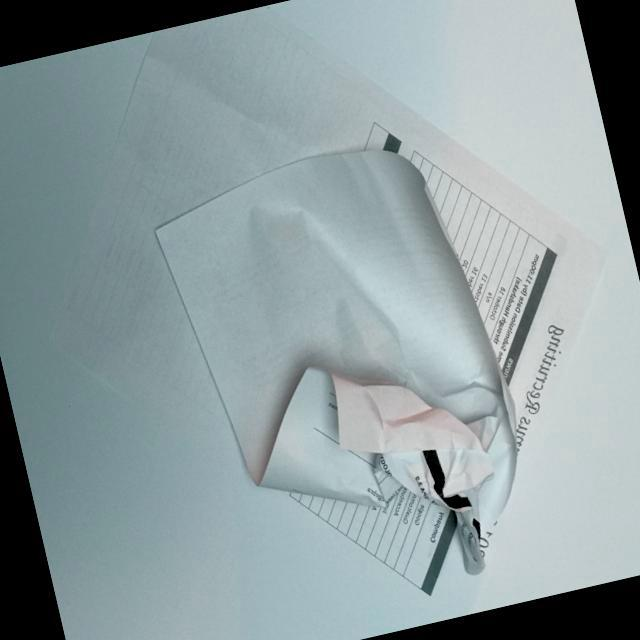paper: (99, 48, 640, 640)
